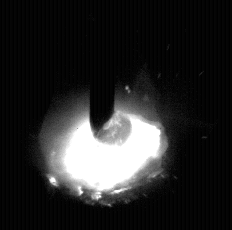arame: (91, 0, 116, 137)
poca: (39, 0, 169, 230)
